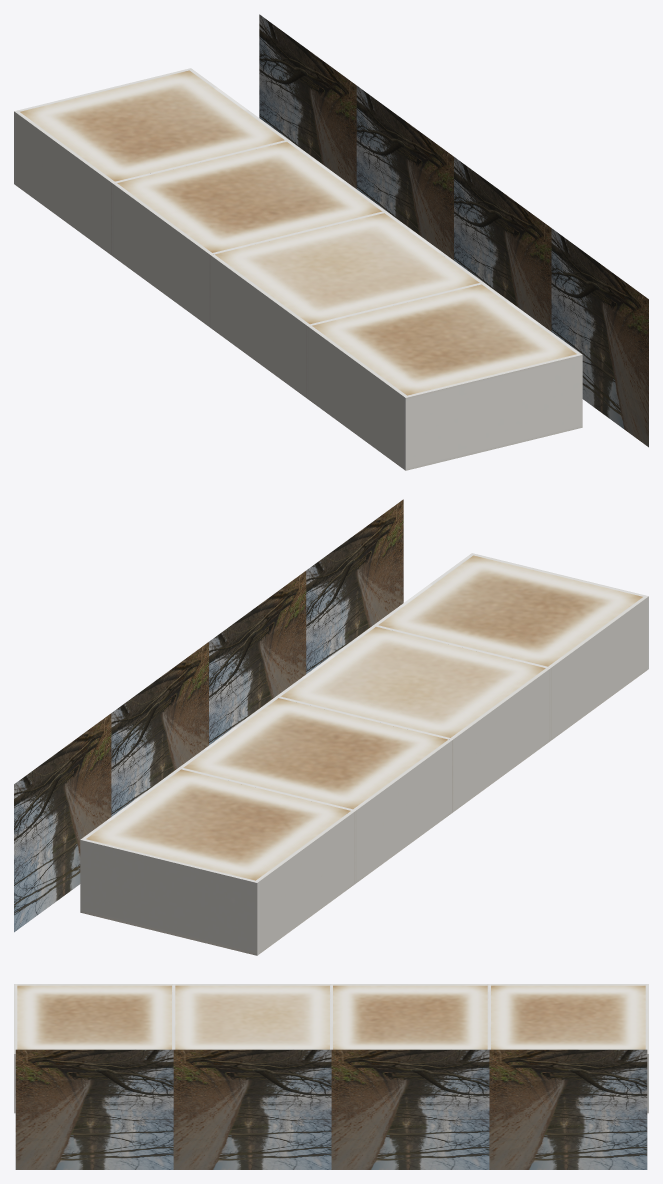
File: house.glb
3 views of the same model, one above another, from view 1: azimuth 30°, elevation 25°; view 2: azimuth 150°, elevation 25°; view 3: azimuth 270°, elevation 25° (orthographic). The views are drawn at different scales.
Visible parts, largest first — view 1: Ceiling_living, Ceiling_closet, Ceiling_dining, Ceiling_bedroom, WallFront, DaylightBackdrop_living, DaylightBackdrop_closet, DaylightBackdrop_dining, DaylightBackdrop_bedroom, WallLeft.002, WallLeft.001, WallLeft (+1 smaller); view 2: Ceiling_closet, Ceiling_living, Ceiling_bedroom, Ceiling_dining, WallBack, DaylightBackdrop_closet, DaylightBackdrop_living, DaylightBackdrop_bedroom, DaylightBackdrop_dining, WallLeft.001, WallLeft.002, WallLeft (+1 smaller); view 3: DaylightBackdrop_closet, DaylightBackdrop_dining, DaylightBackdrop_living, DaylightBackdrop_bedroom, Ceiling_bedroom, Ceiling_closet, Ceiling_dining, Ceiling_living, WallBack, WallFront, WallLeft, WallLeft.001 (+2 smaller).
Part boxes in pixels (x1,y1,x2,y2): Ceiling_living: (312, 284, 576, 395); Ceiling_closet: (20, 70, 284, 181); Ceiling_dining: (215, 213, 479, 324); Ceiling_bedroom: (117, 142, 381, 252); WallFront: (403, 353, 582, 470); DaylightBackdrop_living: (551, 228, 648, 447); DaylightBackdrop_closet: (259, 14, 356, 188); DaylightBackdrop_dining: (454, 157, 551, 331); DaylightBackdrop_bedroom: (356, 86, 453, 260); WallLeft.002: (113, 183, 211, 326); WallLeft.001: (211, 254, 309, 397); WallLeft: (308, 326, 406, 468); Ceiling_closet: (86, 769, 350, 880); Ceiling_living: (378, 555, 642, 666); Ceiling_bedroom: (183, 698, 447, 809); Ceiling_dining: (281, 627, 545, 737); WallBack: (80, 838, 259, 955); DaylightBackdrop_closet: (14, 713, 111, 932); DaylightBackdrop_living: (306, 499, 403, 673); DaylightBackdrop_bedroom: (111, 642, 208, 816); DaylightBackdrop_dining: (209, 571, 306, 745); WallLeft.001: (451, 668, 549, 811); WallLeft.002: (353, 739, 451, 882); WallLeft: (548, 597, 646, 739); DaylightBackdrop_closet: (489, 1049, 647, 1169); DaylightBackdrop_dining: (173, 1049, 331, 1169); DaylightBackdrop_living: (15, 1049, 173, 1169); DaylightBackdrop_bedroom: (331, 1049, 489, 1169); Ceiling_bedroom: (333, 985, 487, 1049); Ceiling_closet: (491, 985, 645, 1049); Ceiling_dining: (175, 985, 329, 1049); Ceiling_living: (17, 985, 171, 1049); WallBack: (645, 984, 648, 1113); WallFront: (14, 984, 17, 1113); WallLeft: (17, 984, 171, 985); WallLeft.001: (175, 984, 329, 985).
Bounding box in the file's own units: 10.35 × 6 × 28.75.
246 materials, 243 textured.
